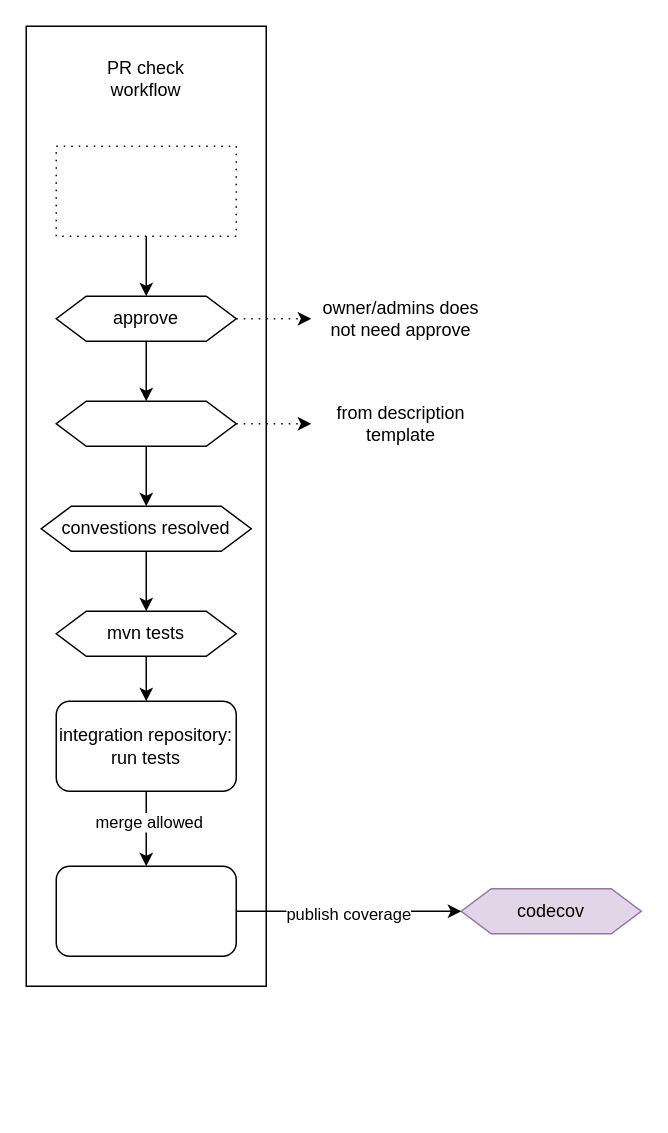
Image size: 668x1133. Some labels were removed from this diagram. Here are the shapes that lost their labels. From the top down, the box of each, then its label:
(55, 145, 236, 236): PR
(55, 400, 236, 446): tasks complete
(55, 865, 236, 956): viewton
